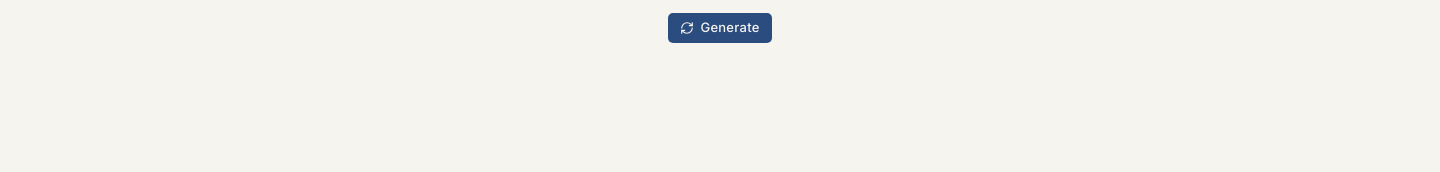
Test: GenerateButton › refreshes the plan views and says so when the plan changed underneath
Click the button "Generate" at (720, 28), box left=667, top=12, right=773, bottom=44
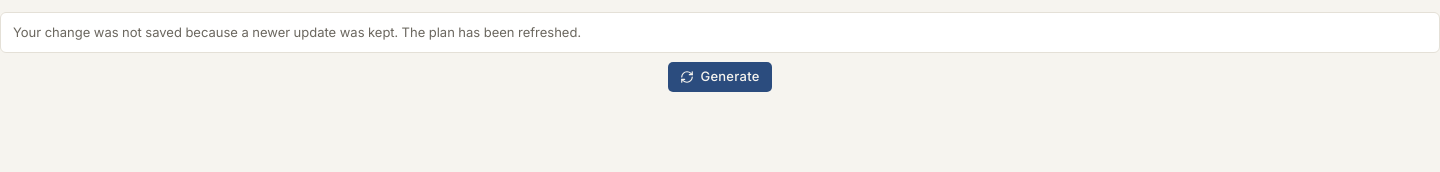
Expected: the text "a newer update was kept" is shown, left=13, top=24, right=581, bottom=40
